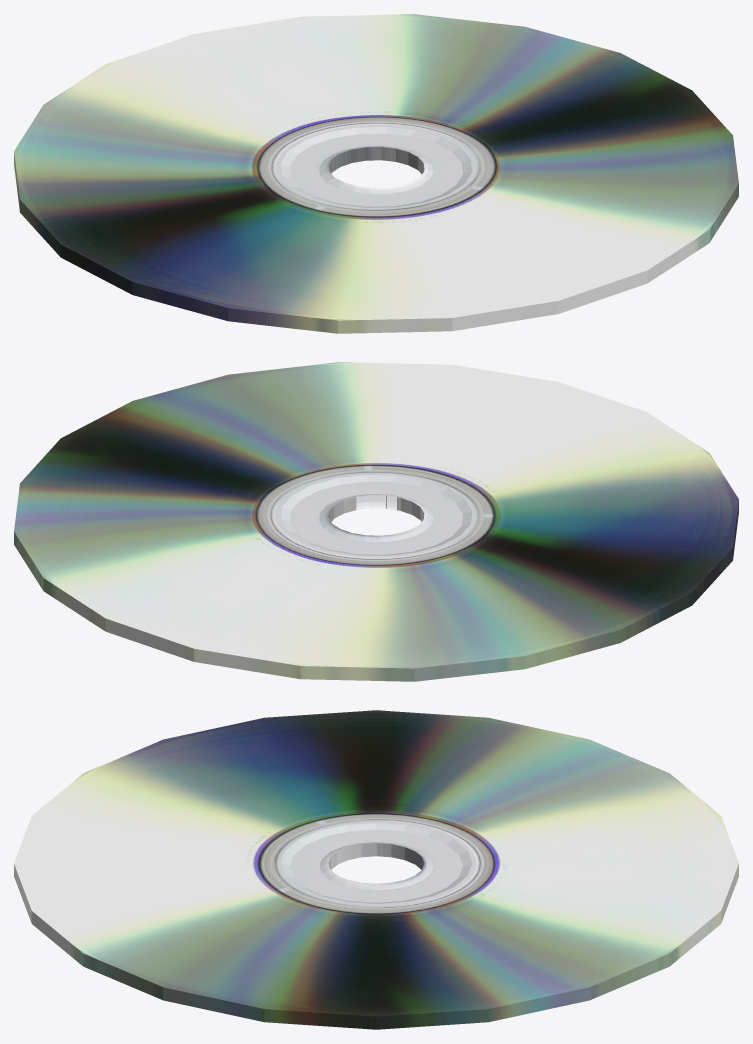
The picture shows the model from 3 angles, top to bottom: view 1: azimuth 30°, elevation 25°; view 2: azimuth 150°, elevation 25°; view 3: azimuth 270°, elevation 25°; orthographic projection.
Parts seen in each view (by area): view 1: CD; view 2: CD; view 3: CD.
Boxes of the visible parts, <box> form: CD: <box>14,14,738,333</box>; CD: <box>14,362,738,681</box>; CD: <box>14,710,738,1029</box>.
Size of the model in its own units: 50 by 1 by 50.
